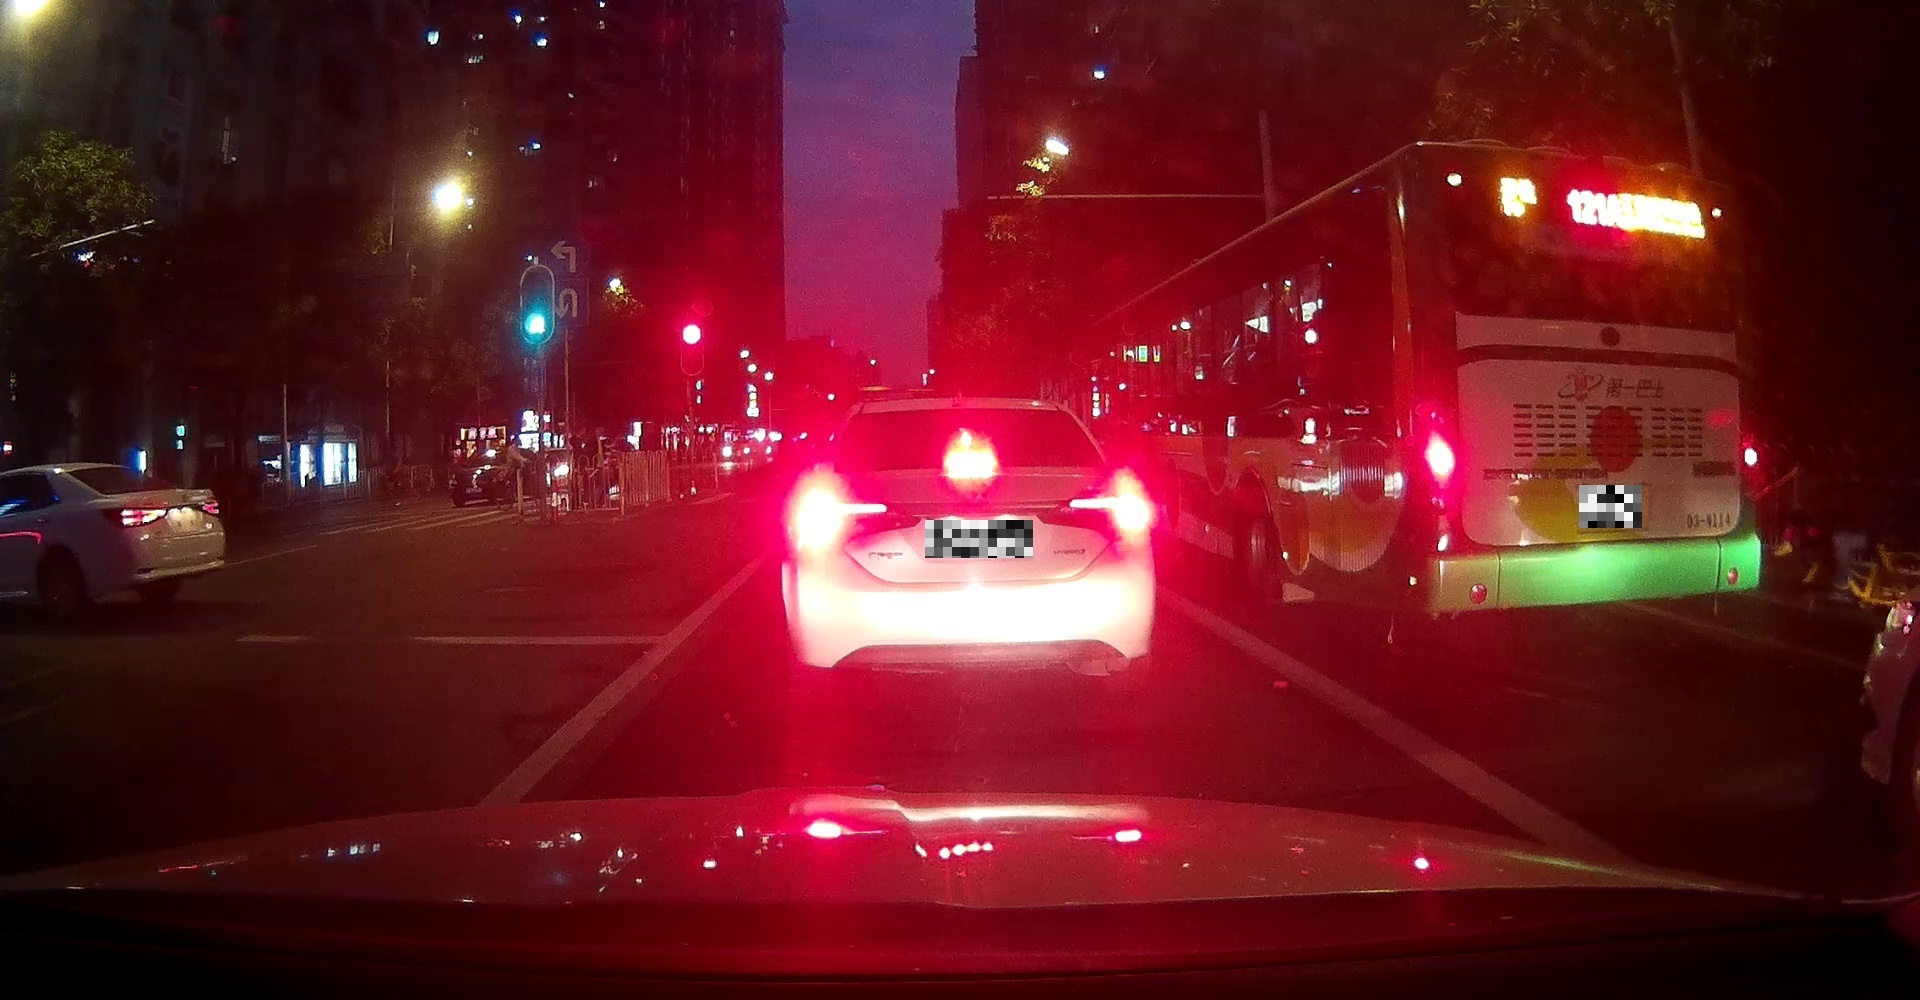L_light: (789, 503, 923, 542), (1417, 404, 1460, 513), (99, 508, 170, 528)
R_light: (1036, 491, 1150, 542), (1738, 418, 1760, 489), (201, 501, 220, 515)
T_light: (943, 458, 999, 470), (1577, 168, 1628, 179), (99, 467, 119, 470)
night-brake: (782, 390, 1154, 692)
night-left: (63, 461, 226, 615)
night-no: (1416, 138, 1760, 650)
plate_1: (924, 520, 1032, 558)
plate_2: (1578, 485, 1642, 528)
